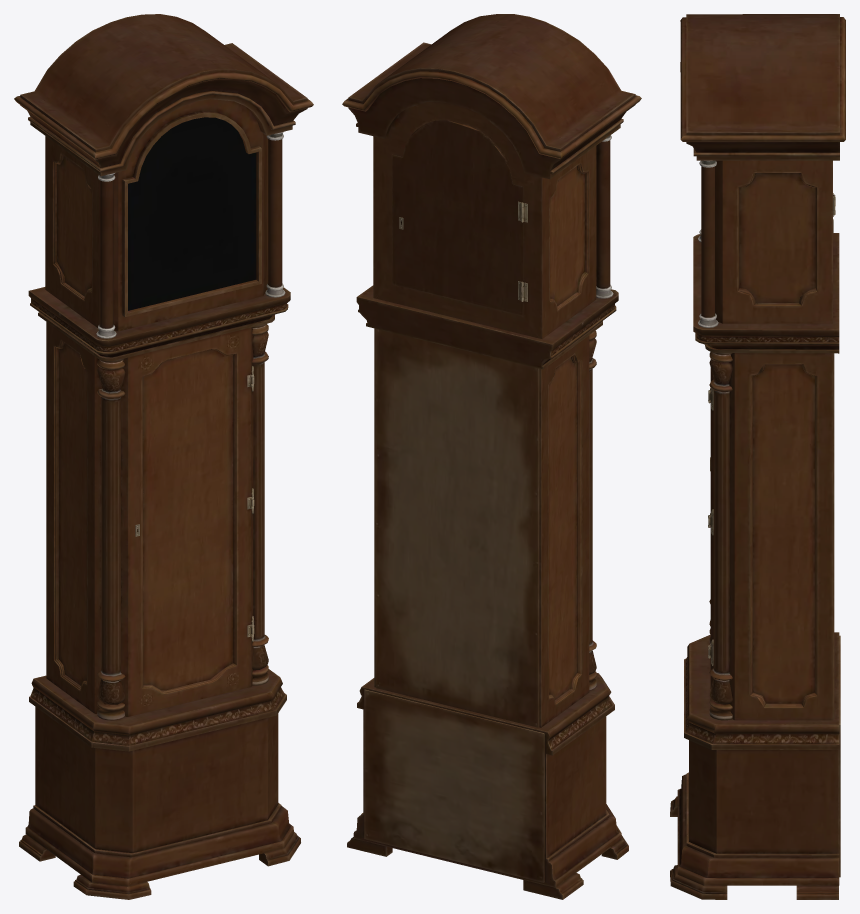
The model's file is vintage_grandfather_clock_01.glb.
3 renders of one model, left to right at view 1: azimuth 30°, elevation 25°; view 2: azimuth 150°, elevation 25°; view 3: azimuth 270°, elevation 25°, orthographic. The views are drawn at different scales.
Parts seen in each view (by area): view 1: vintage_grandfather_clock_01_body; view 2: vintage_grandfather_clock_01_body; view 3: vintage_grandfather_clock_01_body.
Boxes of the visible parts, x1,y1,x2,y2 form: vintage_grandfather_clock_01_body: (14,14,313,899); vintage_grandfather_clock_01_body: (342,14,641,899); vintage_grandfather_clock_01_body: (670,14,845,899).
Bounding box in the file's own units: 0.6255 × 2.19 × 0.4265.
Materials: 2 (2 with a texture image).
